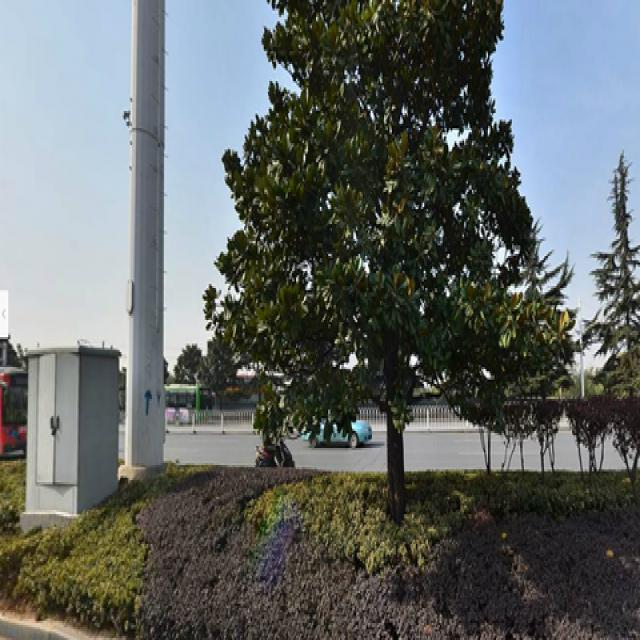magn: (225, 7, 528, 520)
